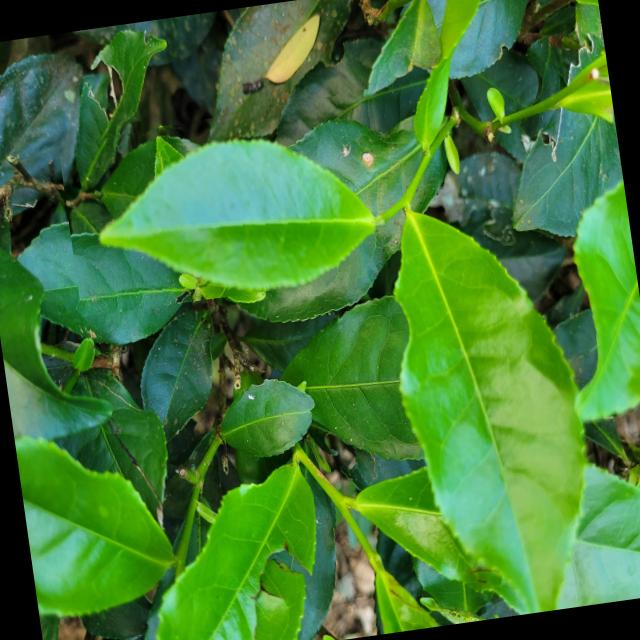Catagory A(1-2 days): (56, 89, 398, 318)
